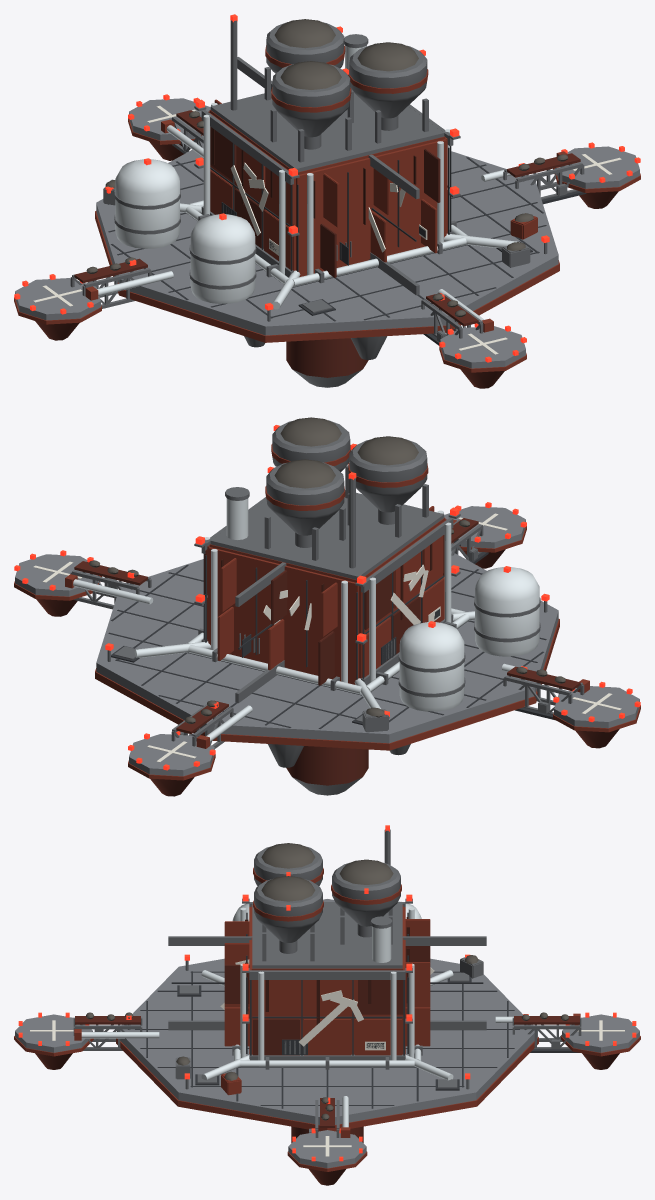
Rendered from union_colony.glb.
3 views of the same model, one above another, from view 1: azimuth 30°, elevation 25°; view 2: azimuth 150°, elevation 25°; view 3: azimuth 270°, elevation 25° (orthographic). The views are drawn at different scales.
Visible parts, largest first — view 1: union_colony_deck_steel, union_colony_hopper_steel, union_colony_union_rust, union_colony_frost_white, union_colony_union_rust_dark, union_colony_seam_dark, union_colony_ore_grey, union_colony_pickaxe_paint, union_colony_work_light_red, union_colony_rust_streak; view 2: union_colony_deck_steel, union_colony_hopper_steel, union_colony_union_rust, union_colony_frost_white, union_colony_union_rust_dark, union_colony_seam_dark, union_colony_ore_grey, union_colony_pickaxe_paint, union_colony_work_light_red; view 3: union_colony_deck_steel, union_colony_hopper_steel, union_colony_union_rust, union_colony_frost_white, union_colony_union_rust_dark, union_colony_seam_dark, union_colony_ore_grey, union_colony_pickaxe_paint, union_colony_work_light_red, union_colony_rust_streak.
Part boxes in pixels (x1,y1,x2,y2): union_colony_deck_steel: [15, 98, 639, 368]; union_colony_hopper_steel: [70, 20, 584, 387]; union_colony_union_rust: [14, 45, 640, 372]; union_colony_frost_white: [97, 45, 519, 320]; union_colony_union_rust_dark: [35, 90, 618, 388]; union_colony_seam_dark: [108, 143, 586, 345]; union_colony_ore_grey: [86, 19, 567, 317]; union_colony_pickaxe_paint: [33, 105, 621, 354]; union_colony_work_light_red: [14, 14, 640, 362]; union_colony_rust_streak: [212, 128, 416, 224]; union_colony_deck_steel: [15, 506, 639, 776]; union_colony_hopper_steel: [70, 420, 584, 795]; union_colony_union_rust: [14, 444, 640, 780]; union_colony_frost_white: [73, 498, 577, 741]; union_colony_union_rust_dark: [36, 518, 619, 796]; union_colony_seam_dark: [108, 551, 555, 735]; union_colony_ore_grey: [89, 417, 565, 723]; union_colony_pickaxe_paint: [33, 513, 621, 762]; union_colony_work_light_red: [14, 425, 640, 770]; union_colony_deck_steel: [15, 899, 639, 1168]; union_colony_hopper_steel: [73, 829, 581, 1137]; union_colony_union_rust: [14, 867, 640, 1171]; union_colony_frost_white: [81, 901, 513, 1127]; union_colony_union_rust_dark: [35, 946, 619, 1185]; union_colony_seam_dark: [135, 912, 579, 1108]; union_colony_ore_grey: [86, 843, 568, 1120]; union_colony_pickaxe_paint: [30, 959, 624, 1156]; union_colony_work_light_red: [18, 825, 636, 1161]; union_colony_rust_streak: [245, 917, 409, 1024].
Size of the model in its own units: 209 by 116 by 209.
